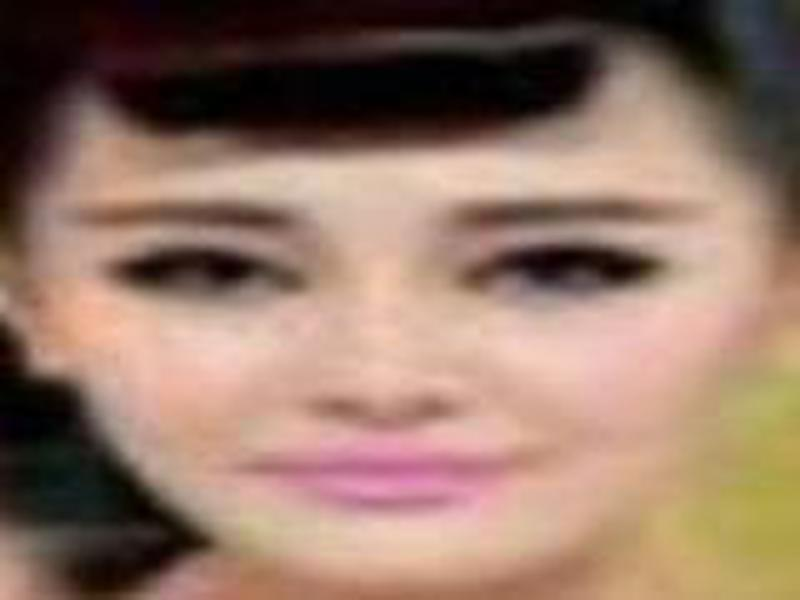without_mask: (29, 119, 740, 580)
